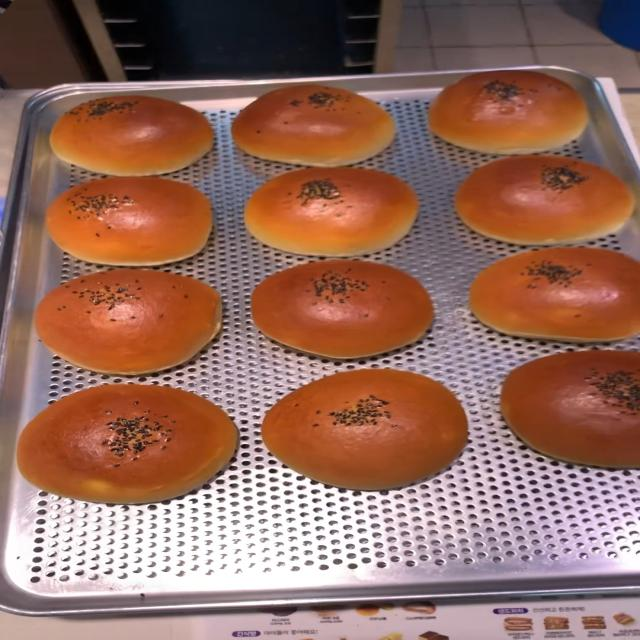bread: (253, 370, 474, 495), (13, 385, 231, 502), (247, 256, 435, 361), (452, 147, 640, 248), (31, 271, 217, 373), (32, 173, 223, 269), (239, 160, 421, 260), (498, 350, 640, 469), (470, 245, 640, 342), (45, 91, 214, 176), (428, 68, 584, 156), (230, 81, 392, 165)
